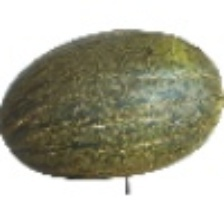honeydew: (16, 29, 185, 221)
